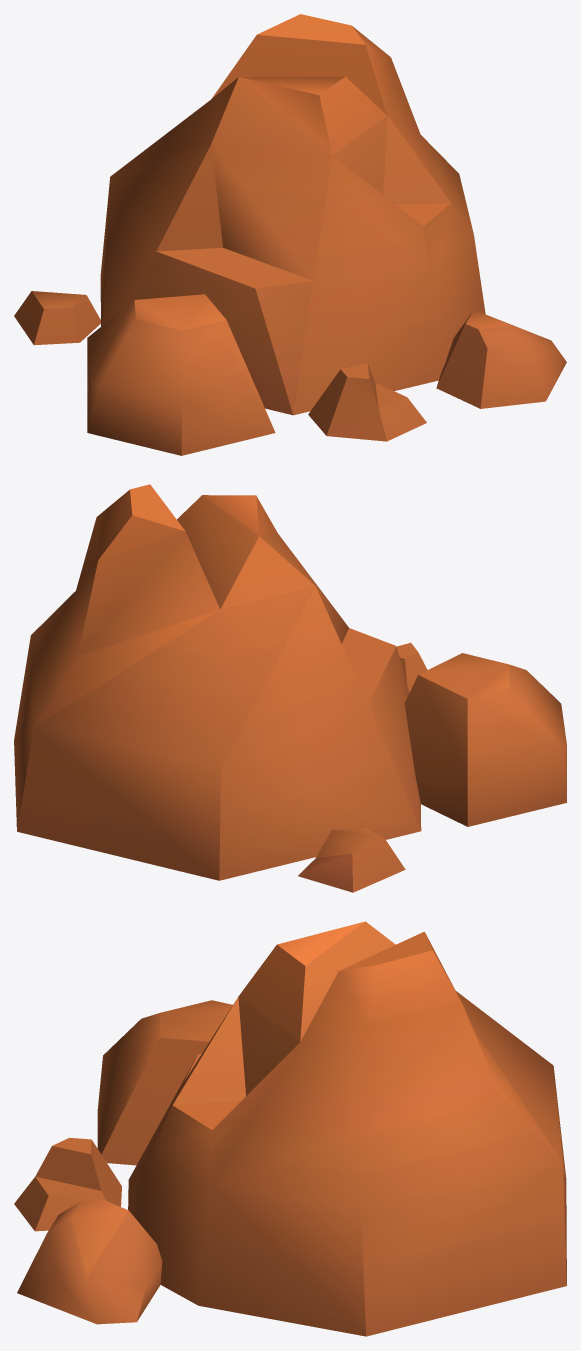
Rendered from boulders_b.glb.
The picture shows the model from 3 angles, top to bottom: view 1: azimuth 30°, elevation 25°; view 2: azimuth 150°, elevation 25°; view 3: azimuth 270°, elevation 25°; orthographic projection. The views are drawn at different scales.
Visible parts, largest first — view 1: rocks_B; view 2: rocks_B; view 3: rocks_B.
Part boxes in pixels (x1,y1,x2,y2): rocks_B: (14, 14, 566, 455); rocks_B: (14, 484, 566, 892); rocks_B: (14, 921, 566, 1336).
Size of the model in its own units: 1.88 by 1.07 by 1.74.
1 material, 1 textured.
